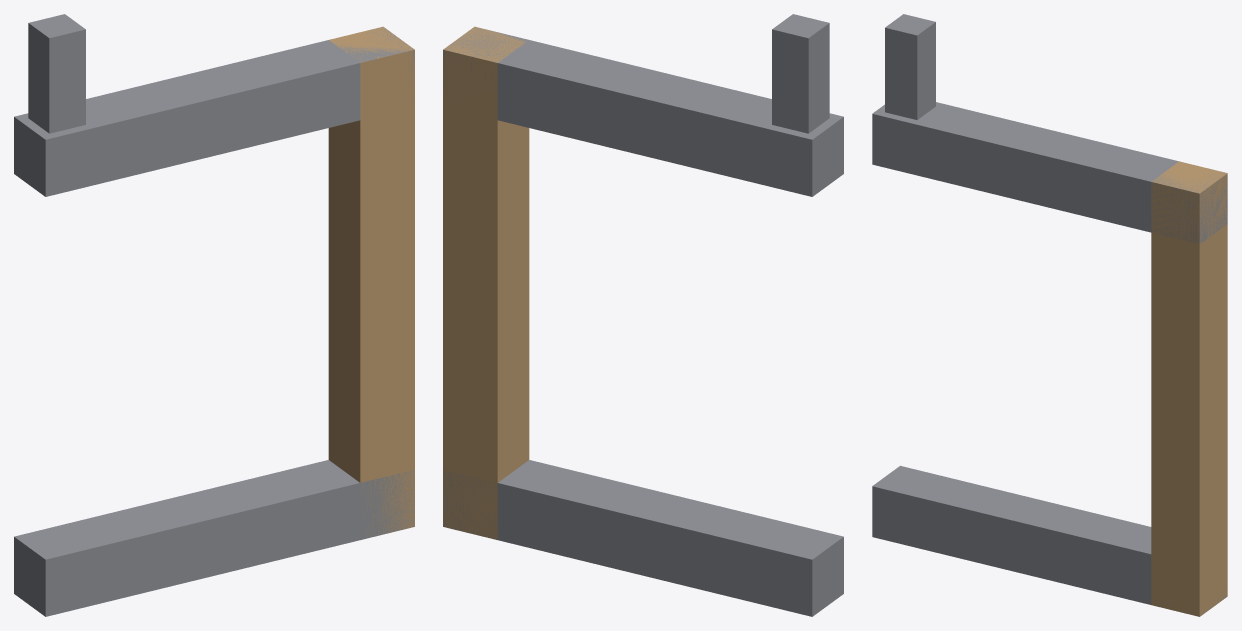
The model's file is prop-brace-frame-blank-bb2.fbx.
The picture shows the model from 3 angles, left to right: view 1: azimuth 30°, elevation 25°; view 2: azimuth 150°, elevation 25°; view 3: azimuth 330°, elevation 25°; orthographic projection. The views are drawn at different scales.
Parts seen in each view (by area): view 1: prop-brace-frame-blank-bb2; view 2: prop-brace-frame-blank-bb2; view 3: prop-brace-frame-blank-bb2.
Part boxes in pixels (box(x1,y1,x2,y2)): prop-brace-frame-blank-bb2: box(14, 14, 414, 616); prop-brace-frame-blank-bb2: box(443, 14, 843, 616); prop-brace-frame-blank-bb2: box(872, 14, 1227, 616).
Bounding box in the file's own units: 16.2 × 24 × 2.4.
